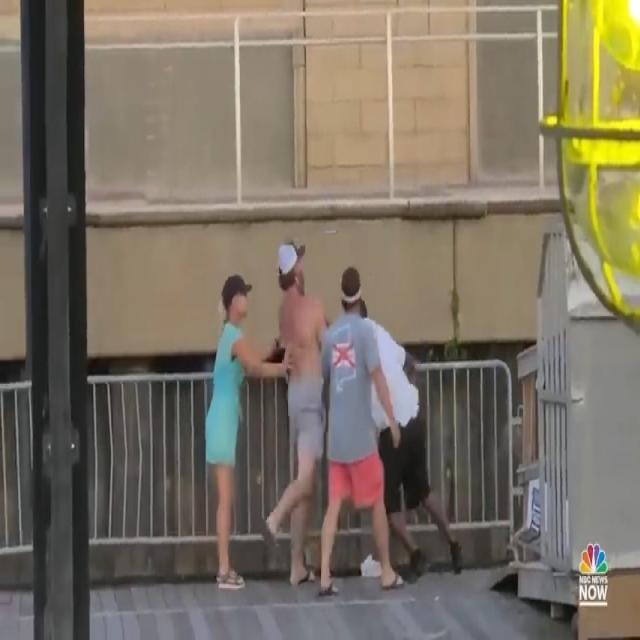fight: (265, 222, 475, 603)
